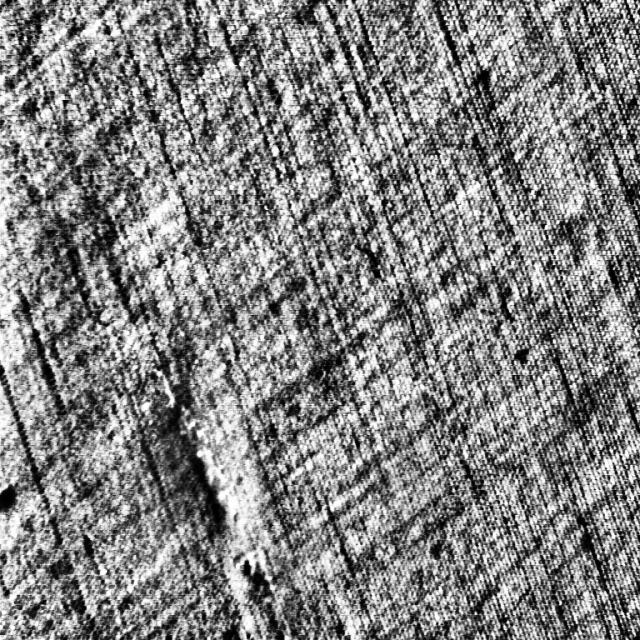Stitch: (162, 385, 273, 623)
